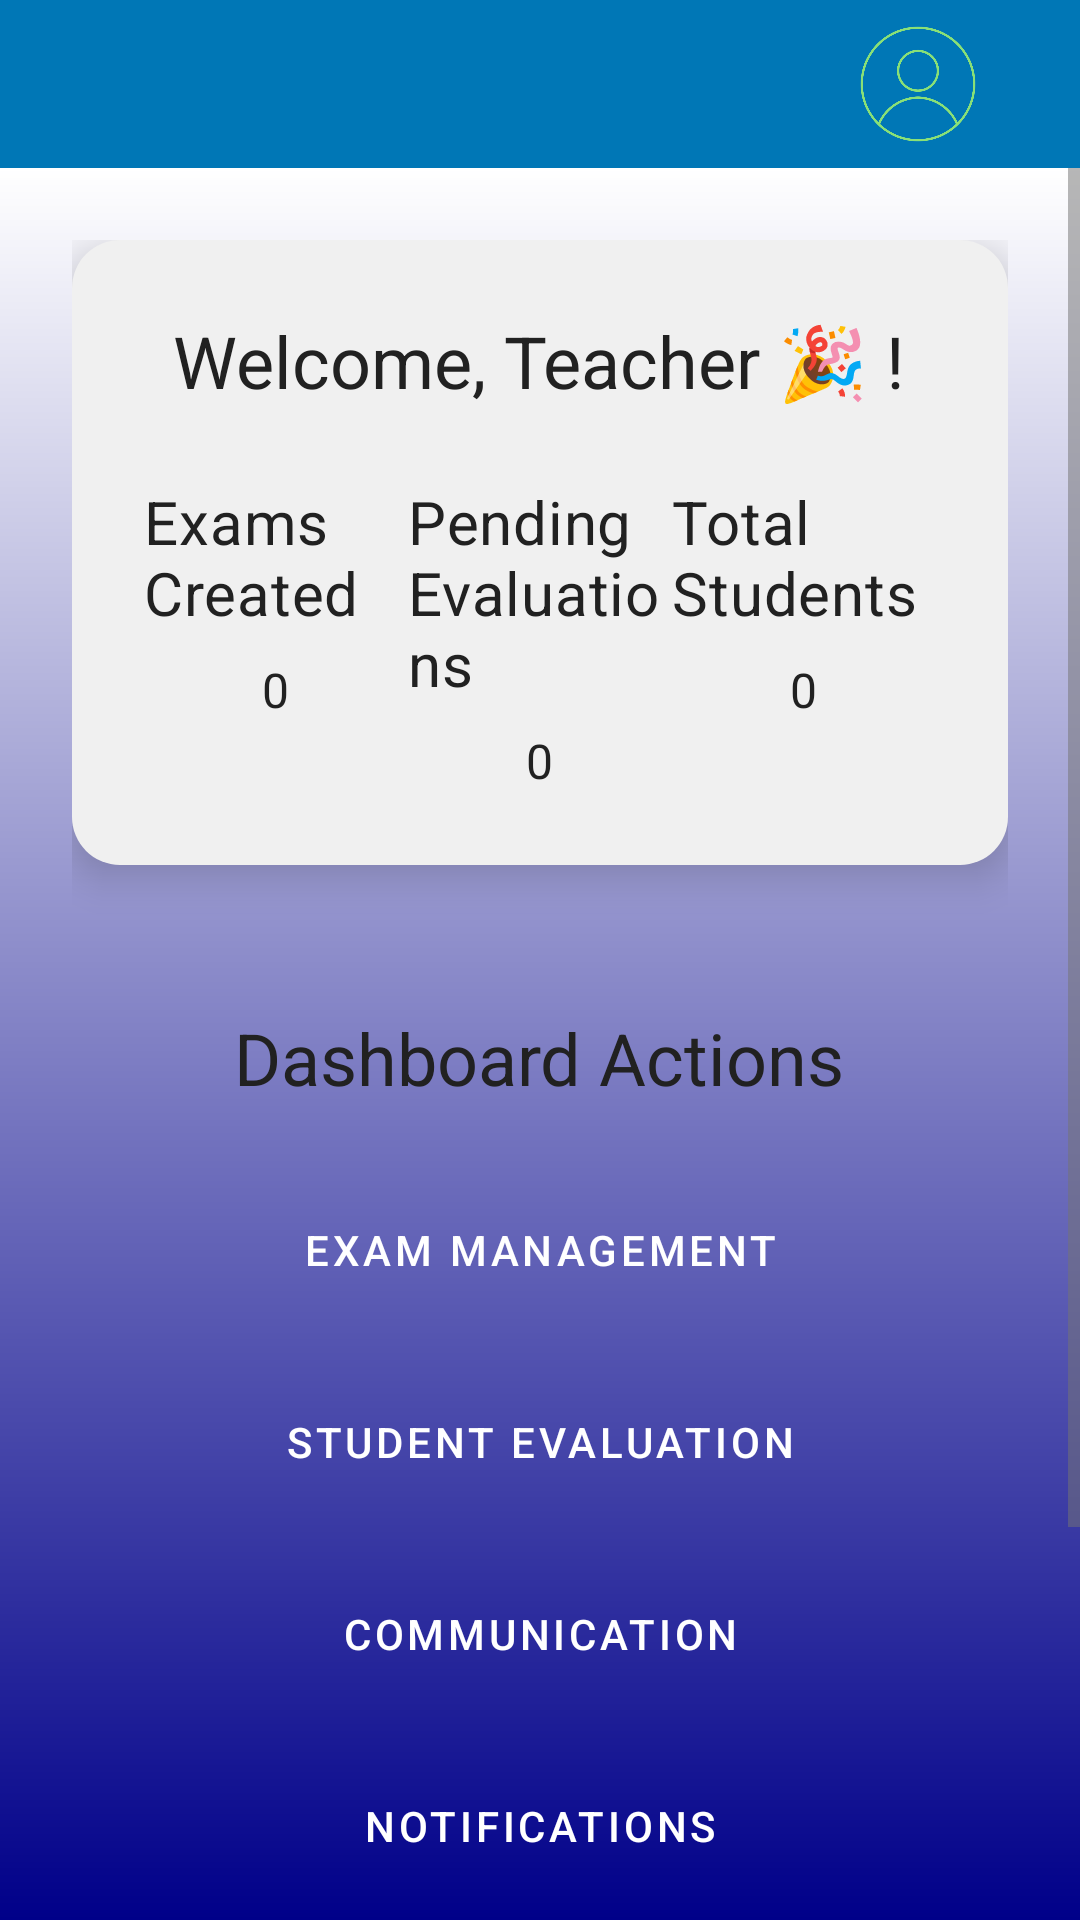

Icons on this 1080 × 1920 Android screen, each with its box as [left=x1, top=y1, right=x2, bottom=y2]:
Profile Picture: [left=861, top=27, right=975, bottom=141]
